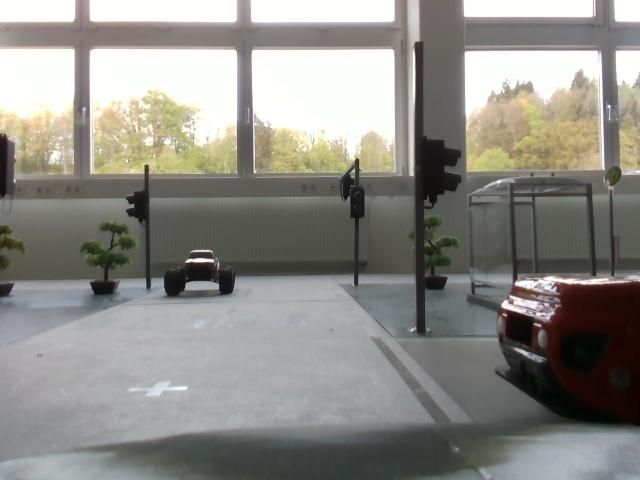car: (499, 265, 640, 423), (158, 236, 246, 309)
potted plant: (77, 220, 138, 306), (403, 214, 468, 291), (2, 221, 39, 309)
traffic light: (412, 134, 467, 200), (345, 177, 373, 224)
